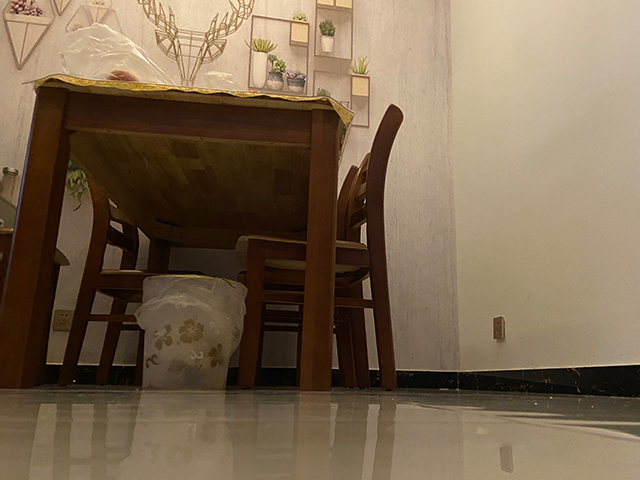stool: (231, 102, 406, 393), (55, 172, 204, 388)
table: (1, 69, 359, 391)
trashcan: (135, 273, 250, 392)
